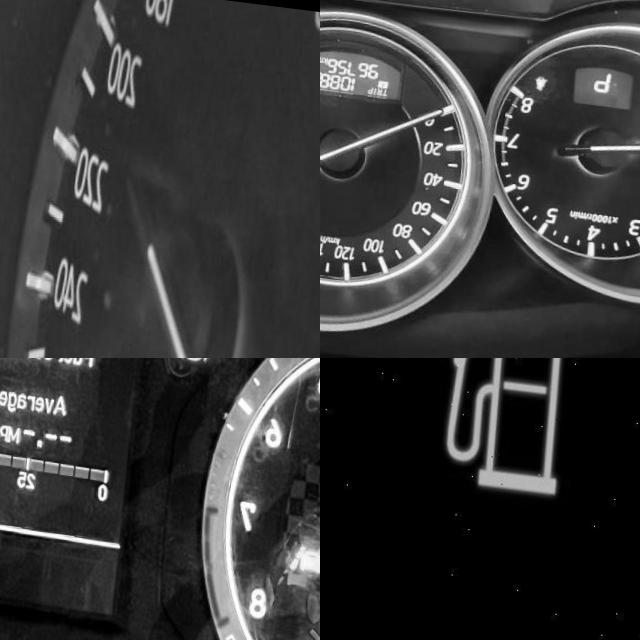Seat Belt: (536, 57, 553, 82)
